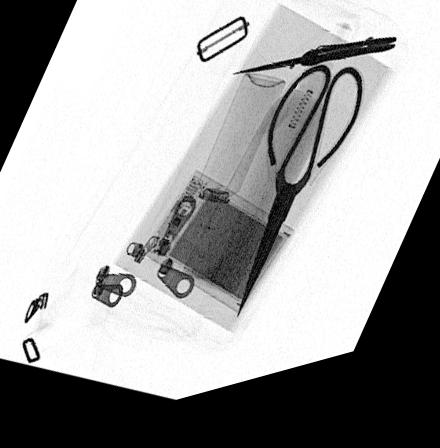Knife: (229, 56, 395, 91)
Powerbank: (134, 180, 295, 328)
Scissors: (233, 82, 362, 338)
Sprayer: (180, 86, 285, 243)
